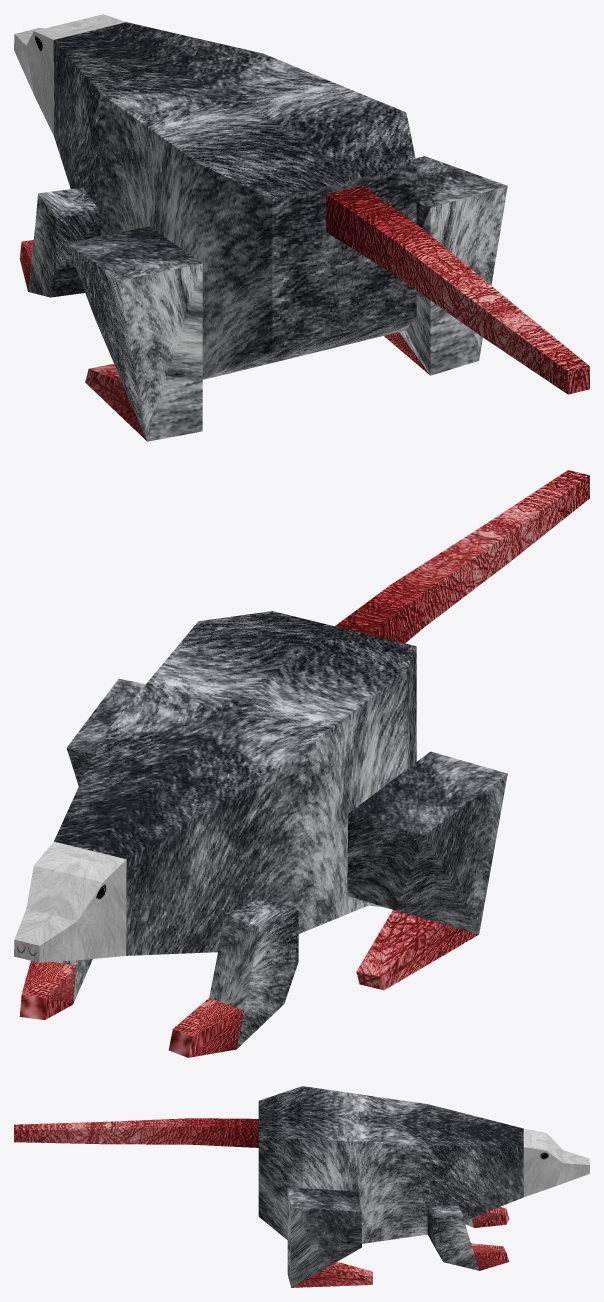
File: rat.fbx
3 views of the same model, one above another, from view 1: azimuth 30°, elevation 25°; view 2: azimuth 150°, elevation 25°; view 3: azimuth 270°, elevation 25° (orthographic). The views are drawn at different scales.
Parts seen in each view (by area): view 1: Cube; view 2: Cube; view 3: Cube.
Part boxes in pixels (x1,y1,x2,y2): Cube: (14,14,589,441); Cube: (14,470,589,1057); Cube: (14,1086,589,1287).
Bounding box in the file's own units: 374 × 237 × 919.
